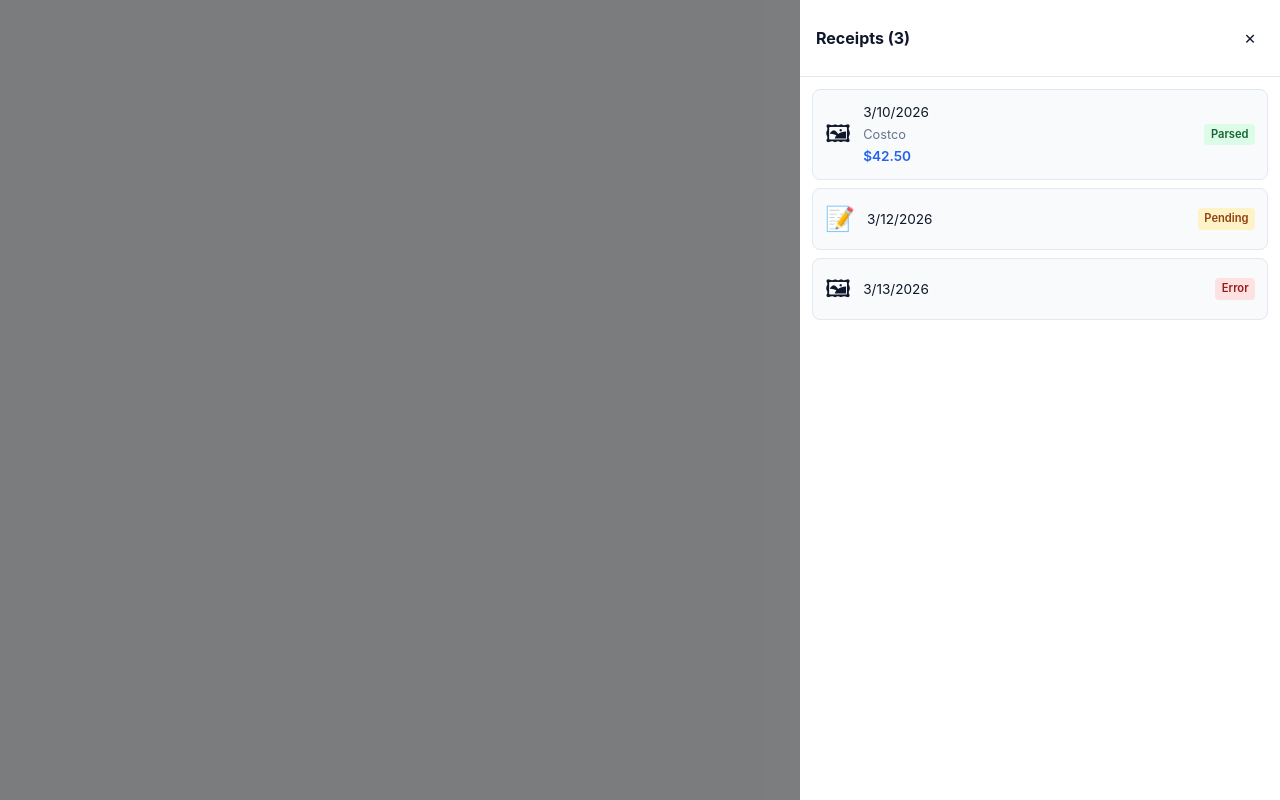
Test case: ReceiptViewerModal › shows error message for failed receipts
The image size is (1280, 800).
Click the element with test id "receipt-list-item-3": (1040, 289) [812,258,1268,320]
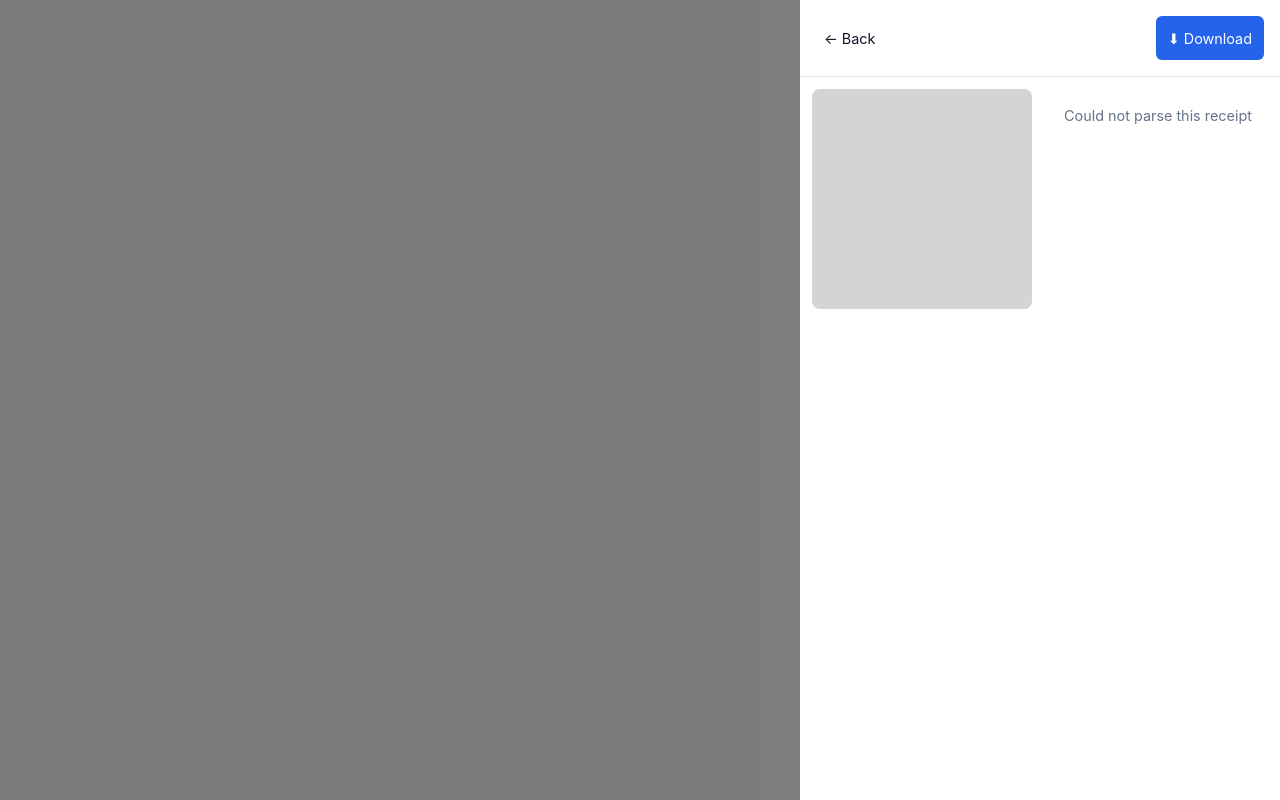
Expected: the text "Could not parse this receipt" is shown, [1064,107,1252,124]
